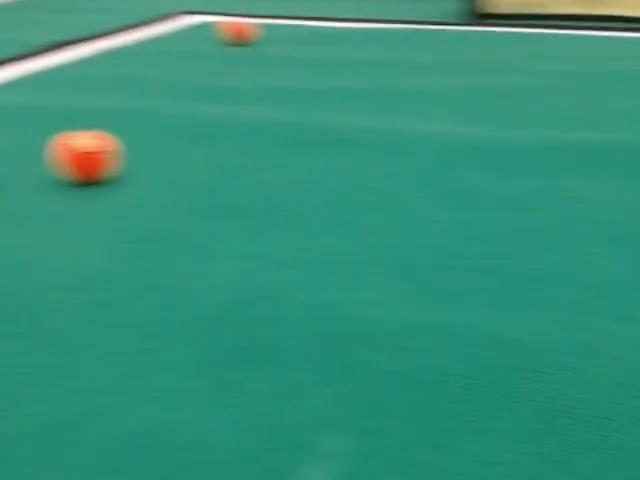Ball: (44, 130, 124, 184)
